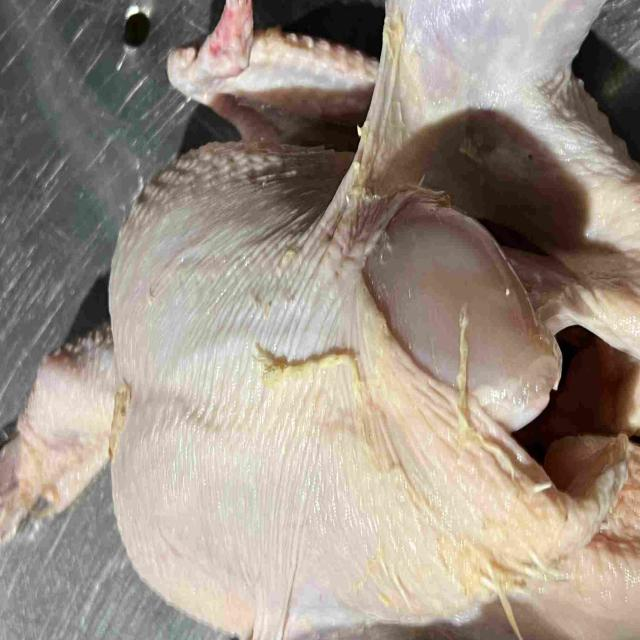breast: (113, 139, 542, 620)
leg: (369, 0, 612, 186)
neck: (0, 326, 119, 544)
wing: (167, 0, 373, 142)
